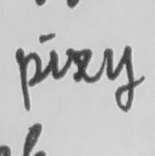i: (12, 46, 44, 113), (46, 32, 61, 82)
x: (63, 45, 96, 86)
y: (101, 42, 137, 113)
